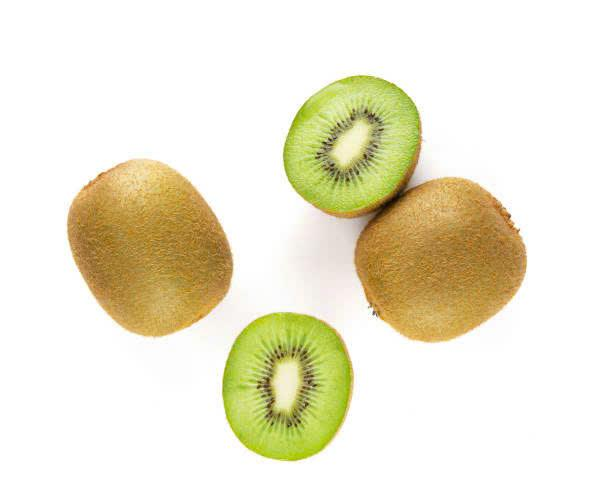kiwi: (66, 163, 242, 338), (368, 190, 525, 344), (284, 57, 418, 212), (230, 320, 349, 467)
